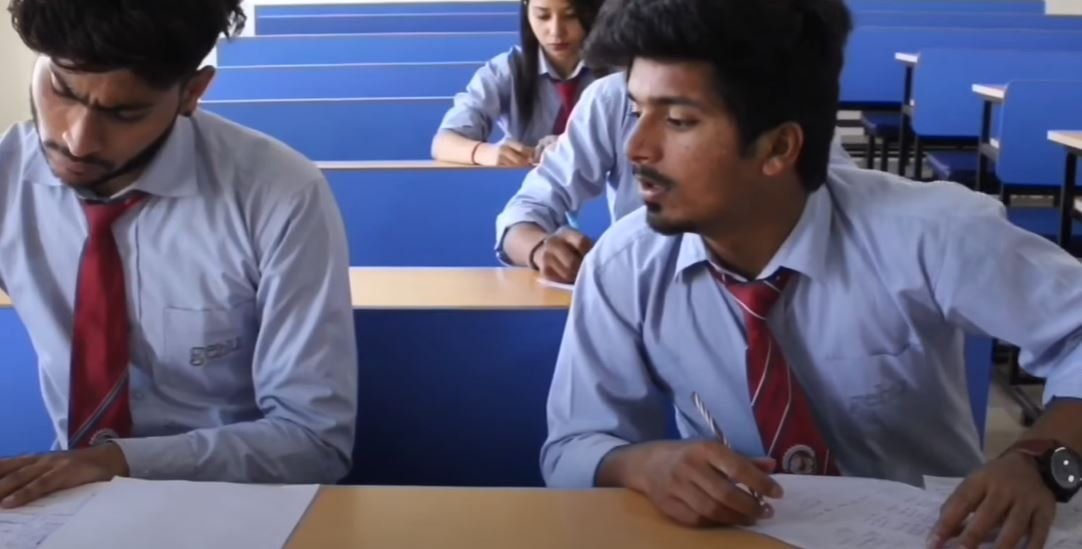student: (482, 11, 620, 154)
studentcopying: (579, 29, 961, 520), (1, 34, 398, 501)
